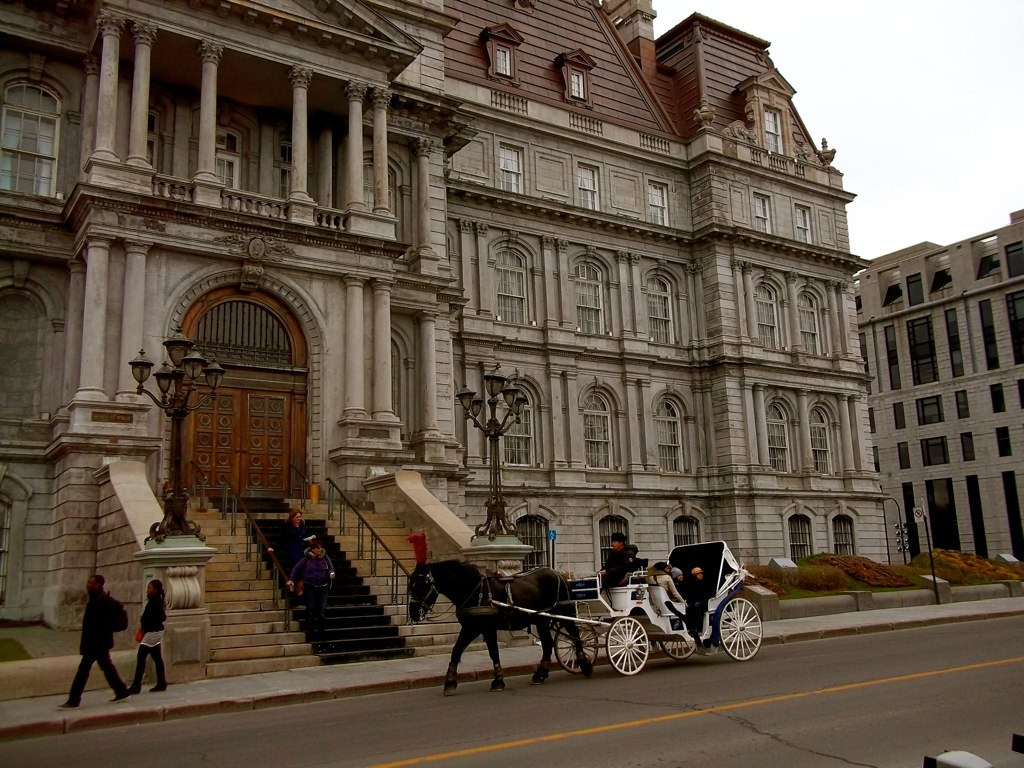horse: (405, 559, 597, 698)
